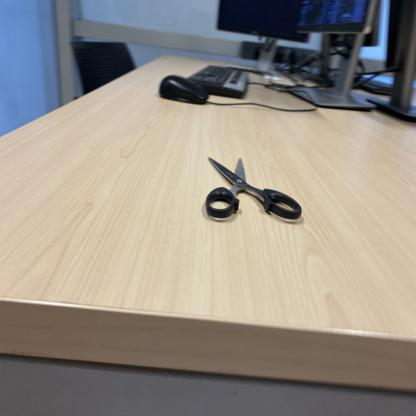scissors: (203, 156, 306, 224)
